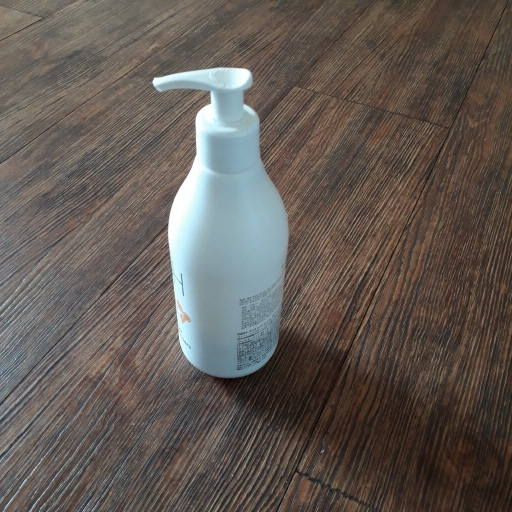Plastic_3: (149, 67, 290, 382)
